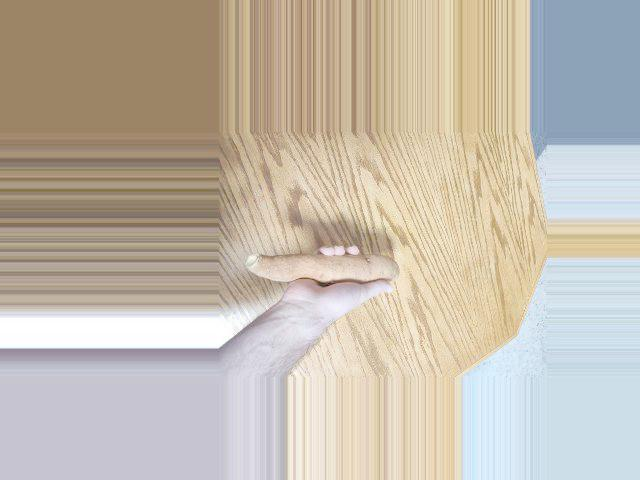sweet_potato: (244, 252, 401, 298)
